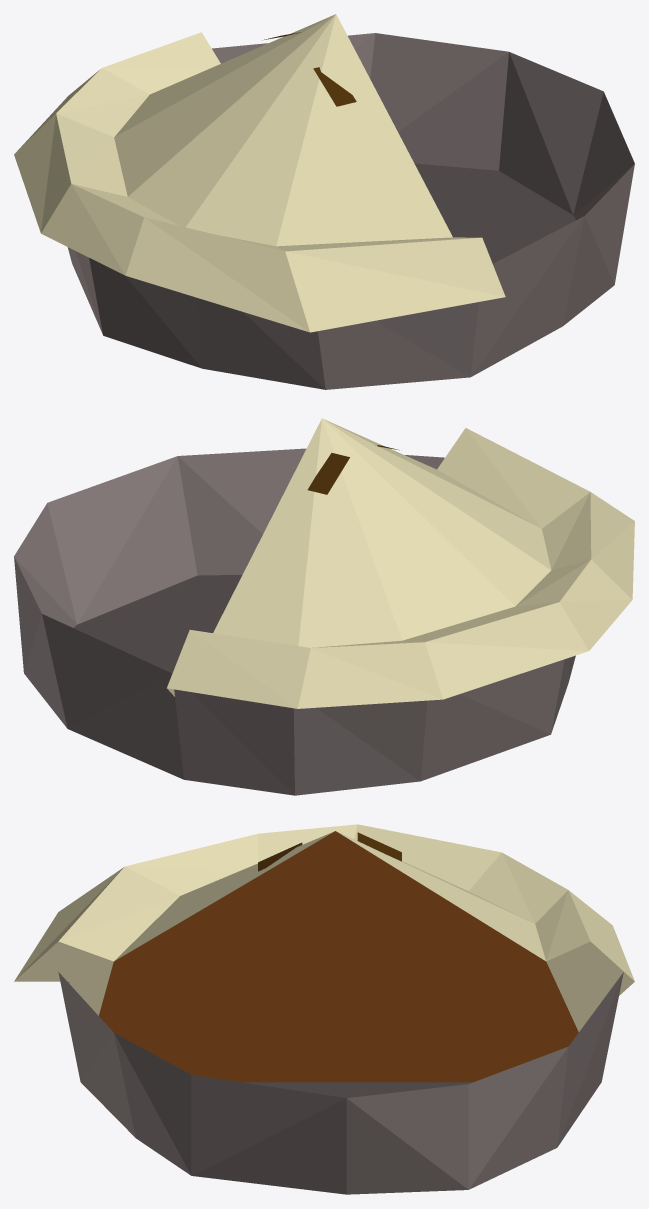
Rendered from inv_half_a_redberry_pie.obj.
3 views of the same model, one above another, from view 1: azimuth 30°, elevation 25°; view 2: azimuth 150°, elevation 25°; view 3: azimuth 270°, elevation 25° (orthographic). The views are drawn at different scales.
Bounding box in the file's own units: 0.4297 × 0.1953 × 0.4375.
